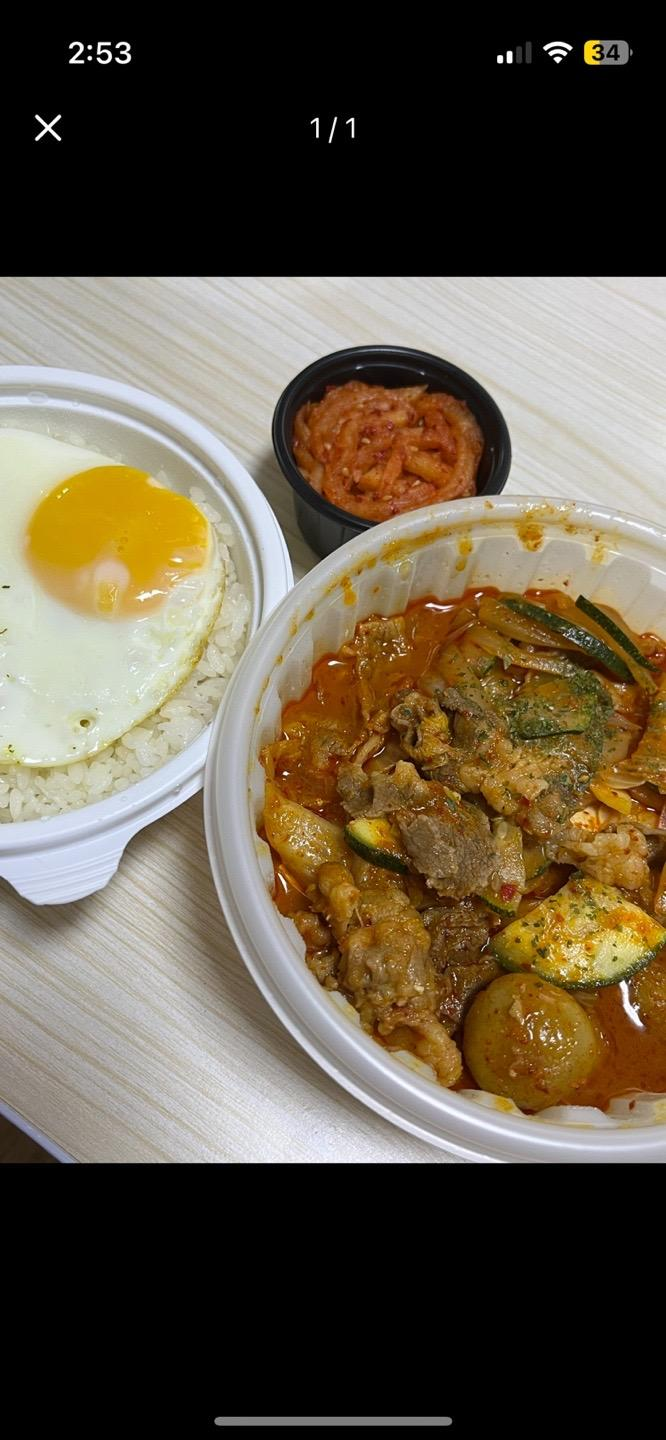Lunch Box: (204, 495, 665, 1162), (0, 369, 292, 902)
cup: (272, 346, 510, 556)
